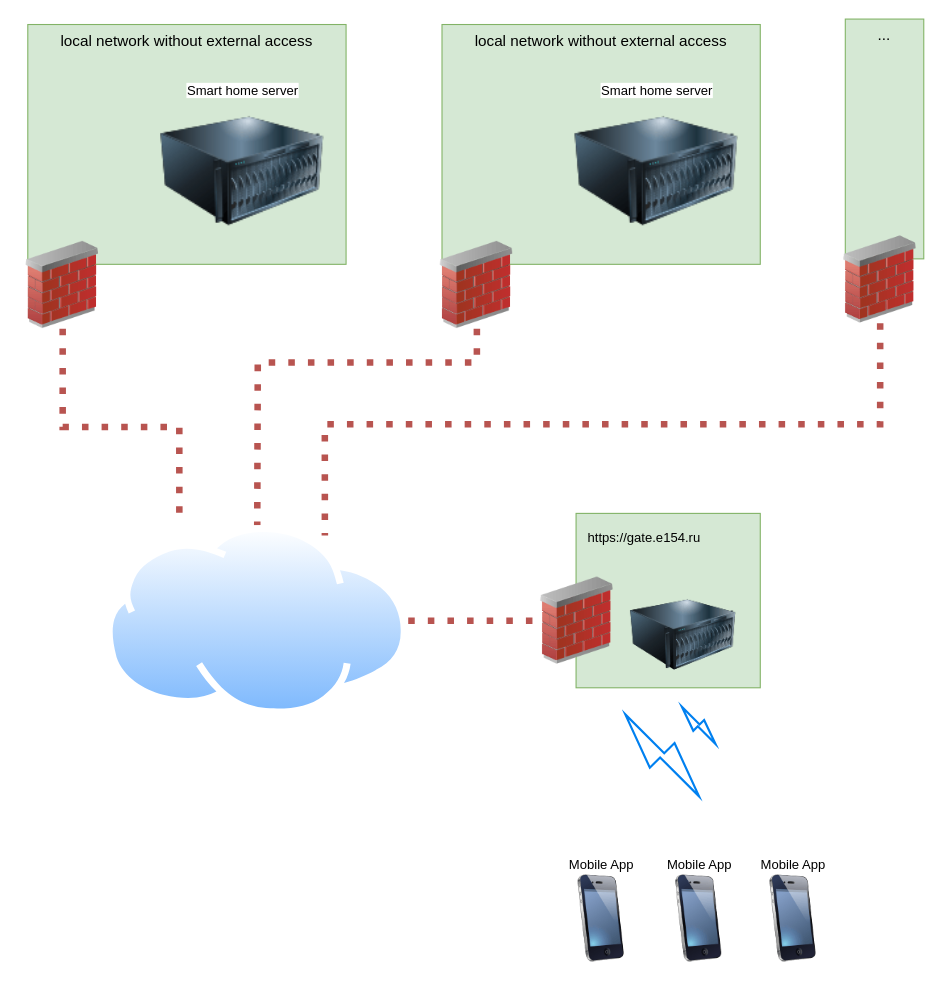
Some shapes in this 943 by 981 pixel diagram are drawn without their labels. The shapes that lost their labels are listed below. From the top down, each one's centre as x and y in pixels, then its label:
At pixel 257 620: "INTERNET".
At pixel 682 634: "Smart home gate".
